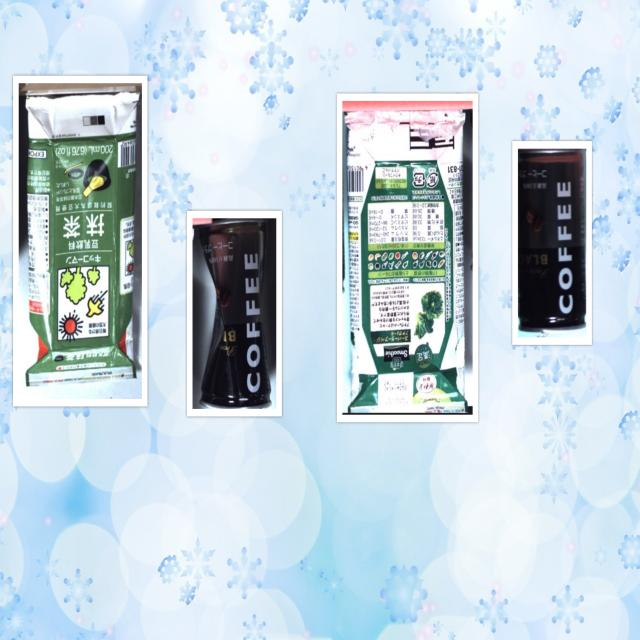Aluminium Foil: (339, 99, 468, 416), (25, 91, 138, 384)
Can: (190, 216, 274, 410), (520, 148, 587, 334)
